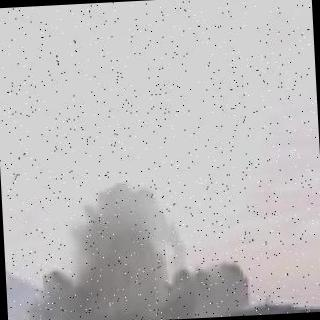smoke: (21, 179, 262, 320)
